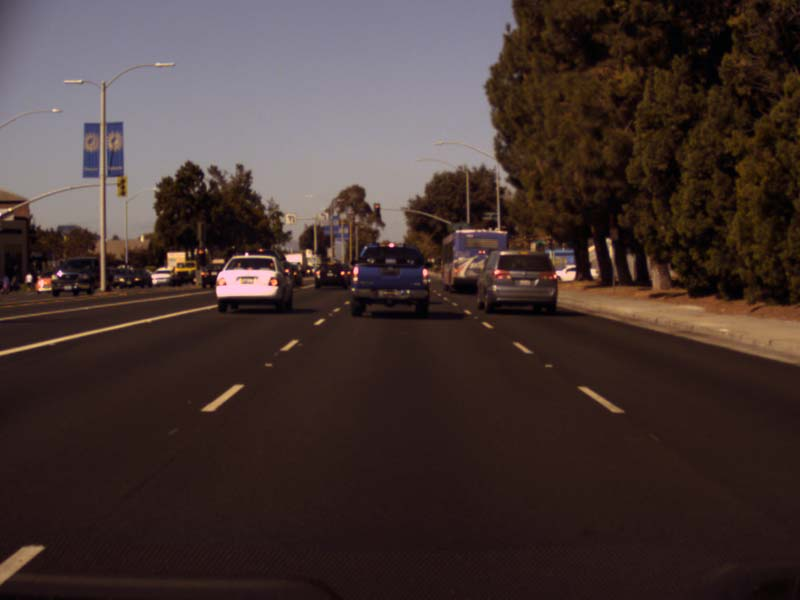Red: (196, 248, 206, 266), (374, 203, 382, 219)
